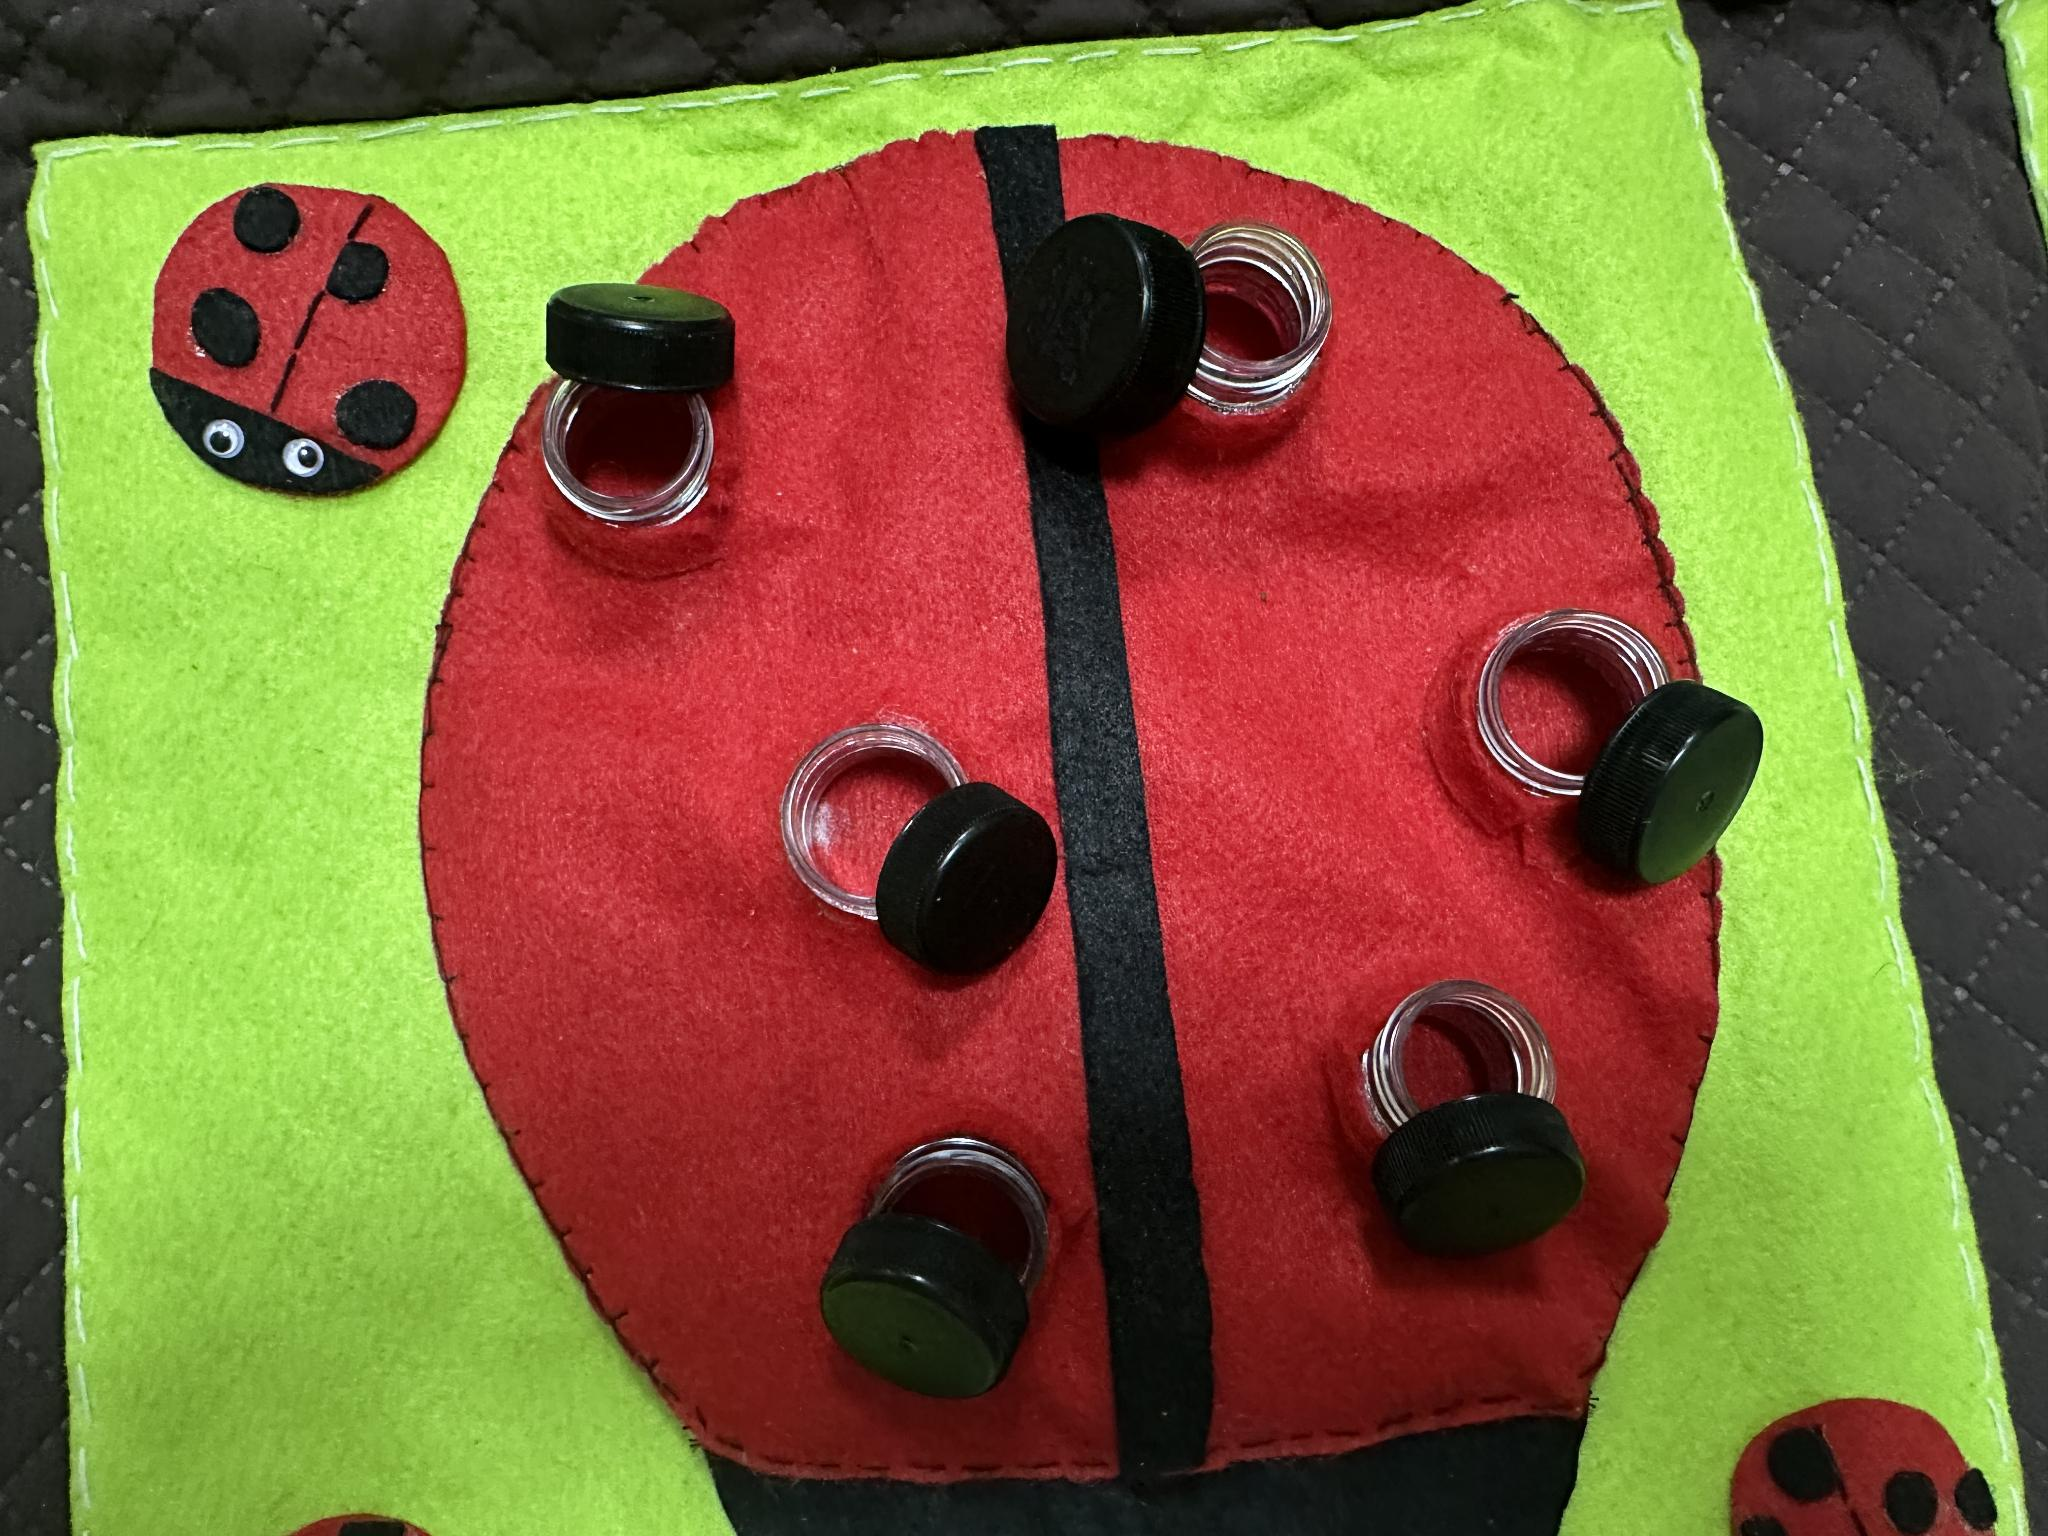cap_ng: (984, 181, 1348, 478), (1461, 570, 1767, 905), (1309, 945, 1598, 1286), (772, 686, 1066, 986), (800, 1113, 1072, 1412), (537, 278, 748, 582)
